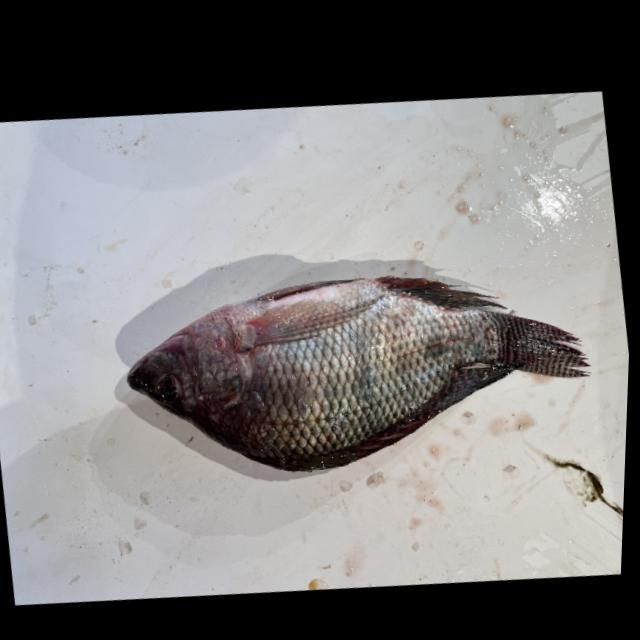Tilapia: (110, 225, 606, 525)
